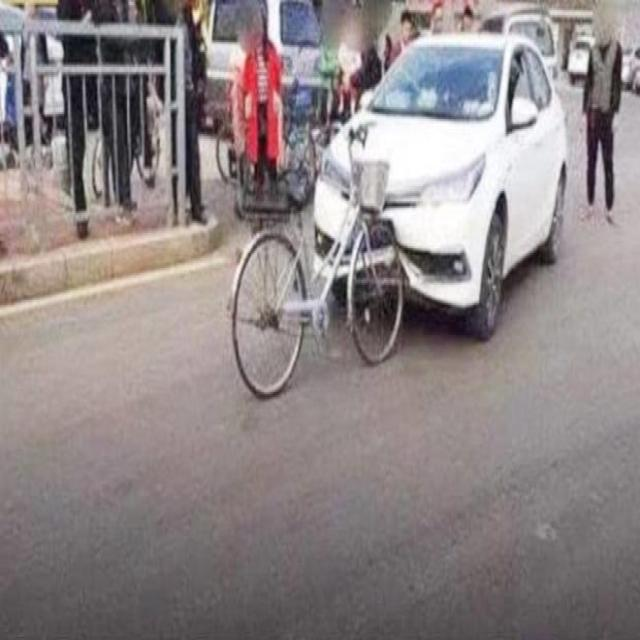bicycle: (232, 124, 404, 397)
car: (315, 34, 568, 338)
